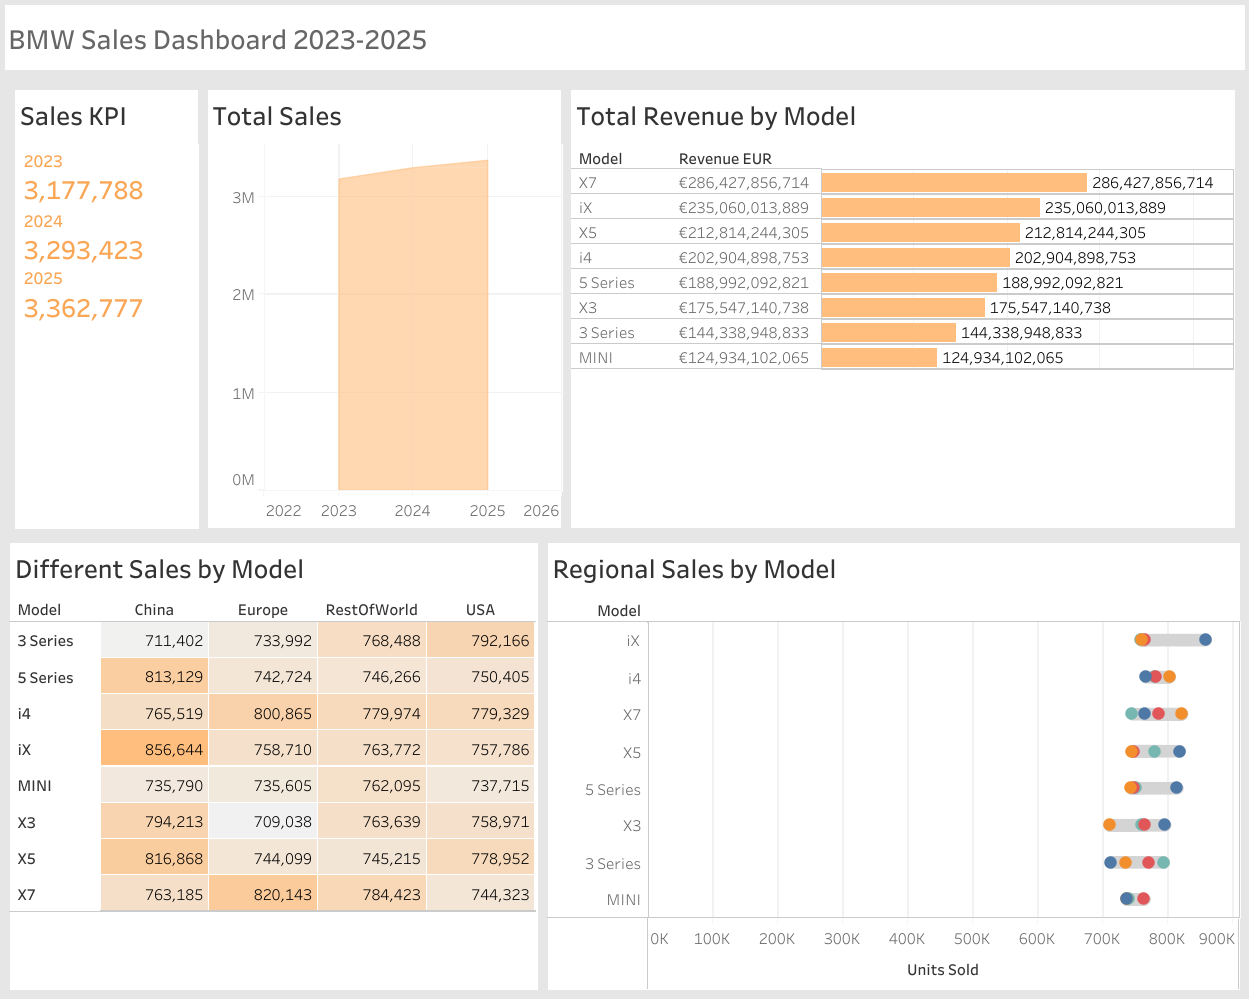

The dashboard page shown, as its layout file describes it:
{"tool":"tableau","page":{"name":"Sales 2023-2025","canvas":[1000,800],"ordinal":0},"visuals":[{"type":"text","box":[0,0,1000,60]},{"type":"worksheet","title":"Sales KPI","mark":"Automatic","box":[8,68,154,358]},{"type":"worksheet","title":"Total Sales","mark":"Area","rows":["Units_Sold"],"cols":["Year"],"box":[162,68,291,358]},{"type":"worksheet","title":"Revenue by Model","mark":"Automatic","rows":["Model","Revenue_EUR"],"cols":["Revenue_EUR"],"box":[453,68,539,358]},{"type":"worksheet","title":"Different Sales by Model","mark":"Square","rows":["Model"],"cols":["Region"],"box":[4,430,430,366]},{"type":"worksheet","title":"Regional Sales by Models","mark":"Circle","rows":["Model"],"cols":["Units_Sold","Units_Sold"],"box":[434,430,562,366]}]}

Visuals, with their boxes in screenshot pixels (x1, y1, x2, y2), scaled from the page's 1000x800 canvas onto the 1249x999 screenshot:
text: detection(0, 0, 1248, 75)
"Sales KPI" worksheet: detection(10, 85, 202, 532)
"Total Sales" worksheet (Area marks): detection(202, 85, 566, 532)
"Revenue by Model" worksheet: detection(566, 85, 1239, 532)
"Different Sales by Model" worksheet (Square marks): detection(5, 537, 542, 994)
"Regional Sales by Models" worksheet (Circle marks): detection(542, 537, 1244, 994)
